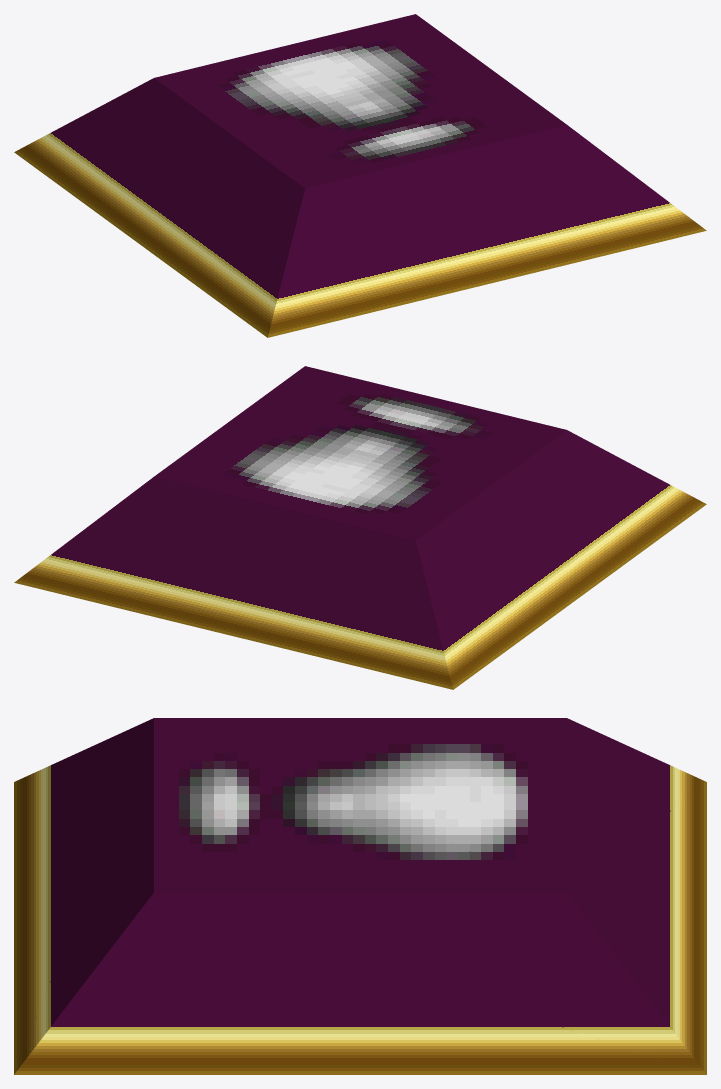
File: purpswitchcollEXPERIMENTAL.fbx
3 renders of one model, top to bottom at view 1: azimuth 30°, elevation 25°; view 2: azimuth 150°, elevation 25°; view 3: azimuth 270°, elevation 25°, orthographic. The views are drawn at different scales.
Visible parts, largest first — view 1: meshMesh0_1; view 2: meshMesh0_1; view 3: meshMesh0_1.
Boxes of the visible parts, <box> form: meshMesh0_1: <box>14,14,706,337</box>; meshMesh0_1: <box>14,366,706,689</box>; meshMesh0_1: <box>14,718,706,1074</box>.
Size of the model in its own units: 20326 by 3987 by 20326.
